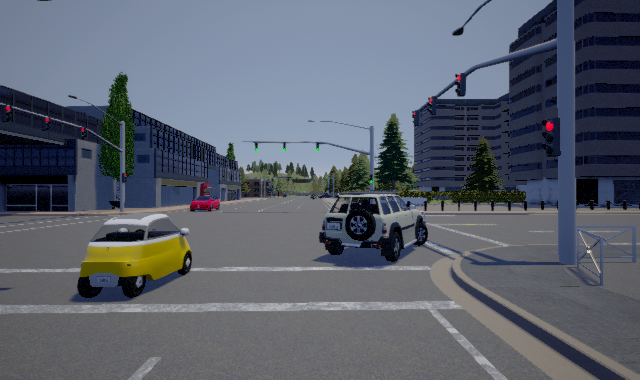traffic_light: (542, 118, 561, 157), (455, 73, 466, 97), (427, 96, 436, 115), (2, 105, 12, 122), (42, 117, 51, 131), (412, 110, 419, 126), (79, 127, 86, 140), (122, 173, 128, 183), (370, 174, 373, 183), (316, 142, 319, 151), (283, 142, 286, 151), (255, 142, 258, 151)
vehicle: (77, 213, 192, 298), (319, 190, 428, 262), (190, 195, 220, 212)
